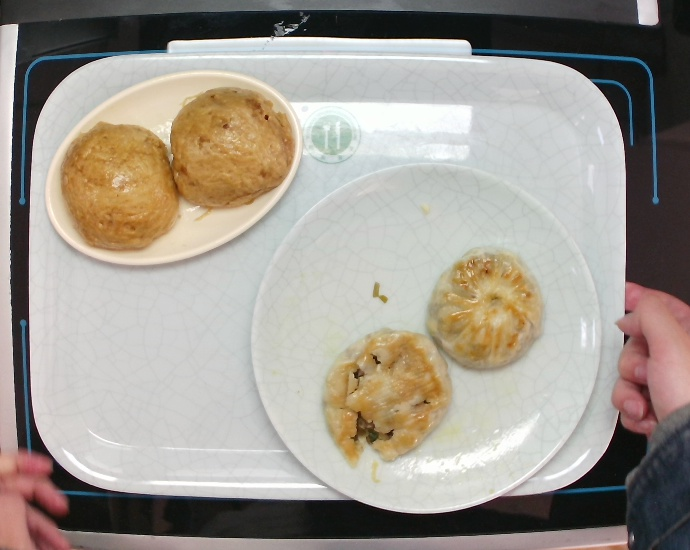JYsf-Da_Yuan_Pan: (236, 148, 604, 518)
JYsf-Tuo_Yuan_Wan: (36, 67, 304, 274)
